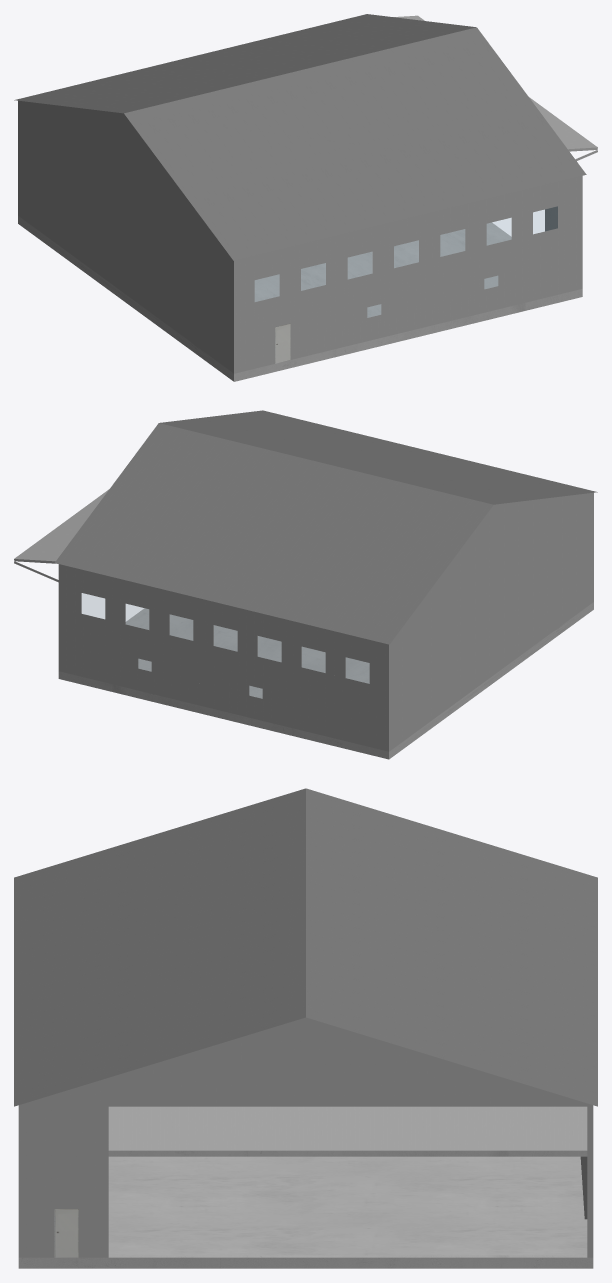
The model's file is gen_open_hangar05-24x22x7-cbj_LOD04.gltf.
3 views of the same model, one above another, from view 1: azimuth 30°, elevation 25°; view 2: azimuth 150°, elevation 25°; view 3: azimuth 270°, elevation 25° (orthographic). The views are drawn at different scales.
Visible parts, largest first — view 1: Cylinder.006; view 2: Cylinder.006; view 3: Cylinder.006.
Boxes of the visible parts, x1,y1,x2,y2 form: Cylinder.006: (14, 14, 597, 381); Cylinder.006: (14, 410, 597, 759); Cylinder.006: (14, 788, 597, 1268).
Size of the model in its own units: 25.65 by 11.65 by 24.4.
